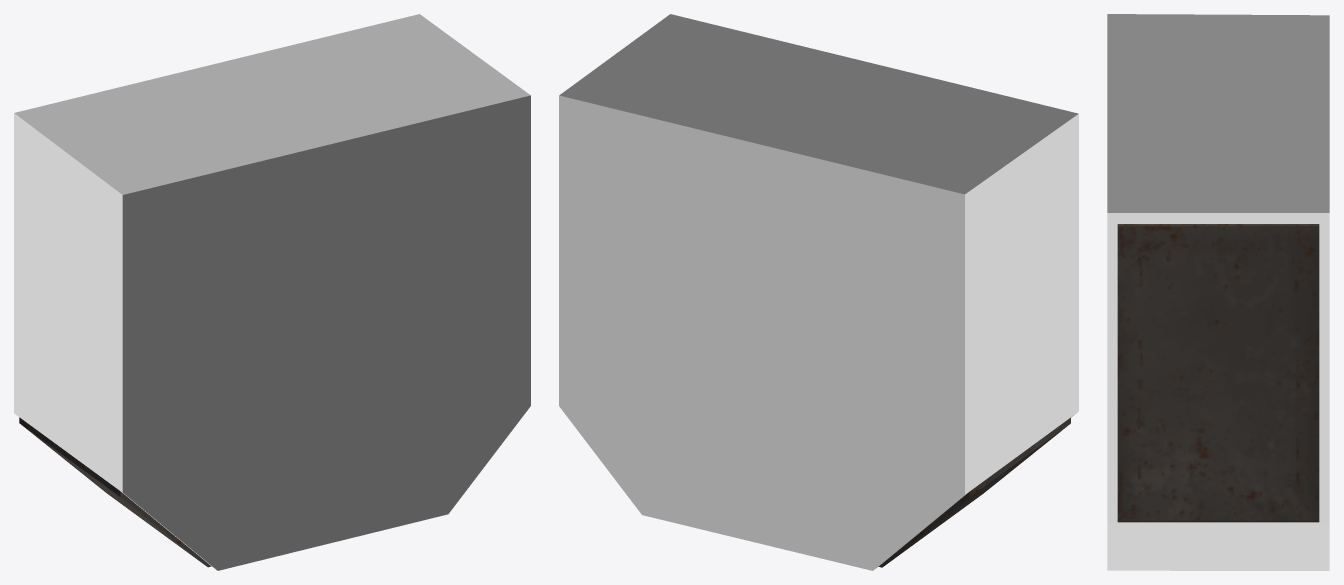
Rendered from SM_Blinds_end.fbx.
3 views of the same model, side by side, from view 1: azimuth 30°, elevation 25°; view 2: azimuth 150°, elevation 25°; view 3: azimuth 270°, elevation 25° (orthographic).
Parts seen in each view (by area): view 1: SM_Blinds_end_ConvexHulls, SM_Blinds_end_LOD0; view 2: SM_Blinds_end_ConvexHulls, SM_Blinds_end_LOD0; view 3: SM_Blinds_end_ConvexHulls, SM_Blinds_end_LOD0.
Boxes of the visible parts, x1,y1,x2,y2 form: SM_Blinds_end_ConvexHulls: (14, 14, 530, 570); SM_Blinds_end_LOD0: (19, 417, 211, 567); SM_Blinds_end_ConvexHulls: (559, 14, 1078, 570); SM_Blinds_end_LOD0: (878, 417, 1070, 567); SM_Blinds_end_ConvexHulls: (1107, 14, 1329, 570); SM_Blinds_end_LOD0: (1117, 224, 1319, 522).
Bounding box in the file's own units: 4.7 × 2.2 × 4.35.
